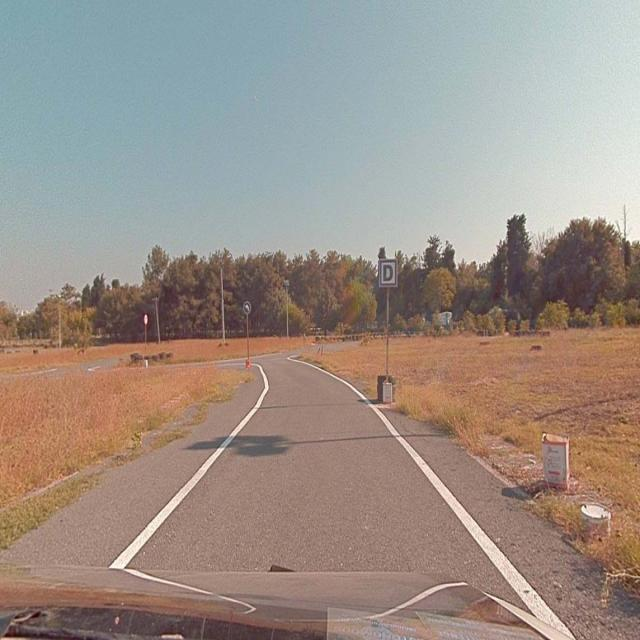durak: (379, 258, 397, 287)
sol: (243, 302, 251, 314)
